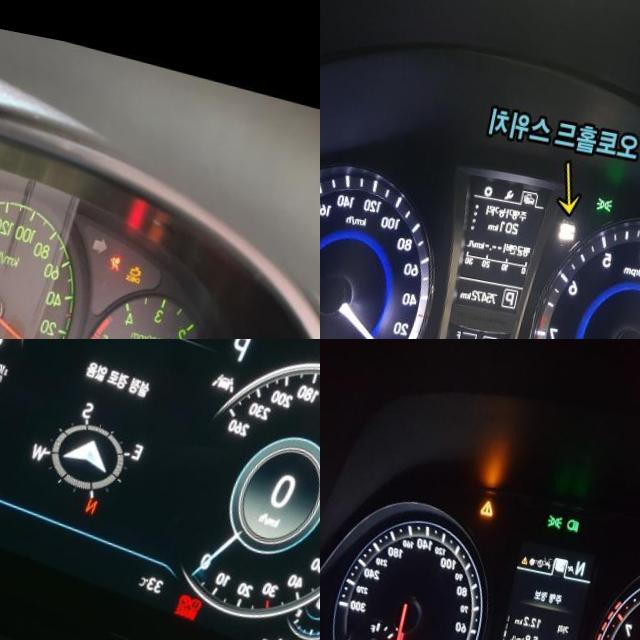Central Warning lamp: (490, 489, 505, 506)
LaneCenteringOff: (220, 351, 248, 374)
Low beam: (576, 504, 590, 519)
SideLamp: (607, 181, 625, 200), (556, 501, 573, 516)
